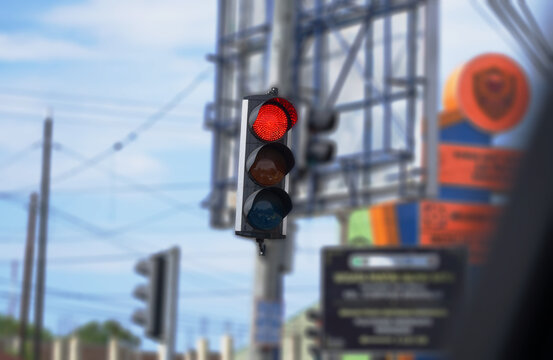red: (235, 93, 298, 240)
